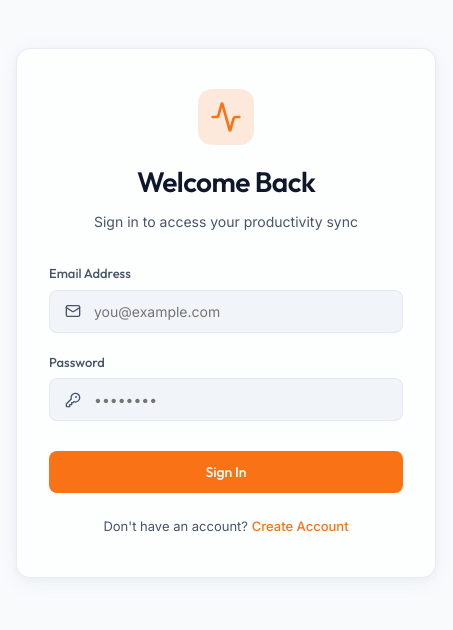
Login Component › shows validation error warning if form submitted with blank inputs
This screenshot has width=453, height=630.
Click the button "Sign In": {"x": 226, "y": 472} [49,451,403,493]
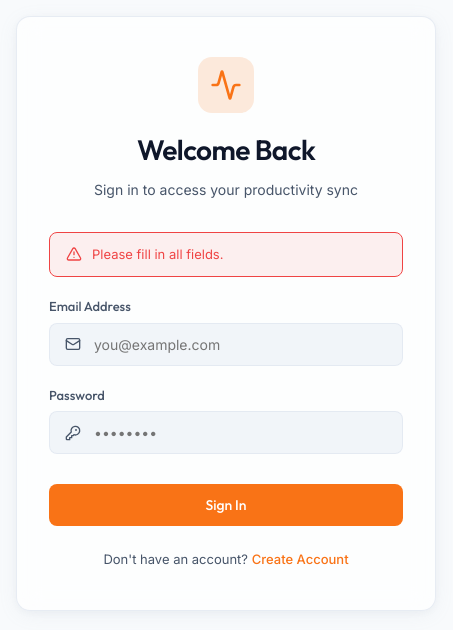
Expected: the text "Please fill in all fields." is shown, [92,244,224,264]
